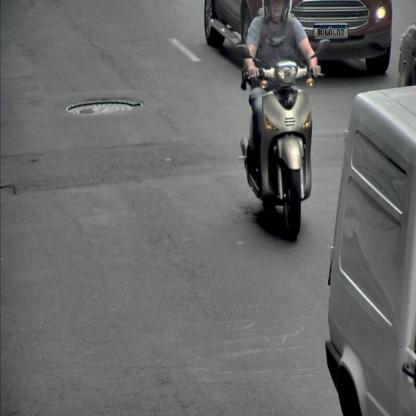PlacaM: (314, 25, 348, 37)
